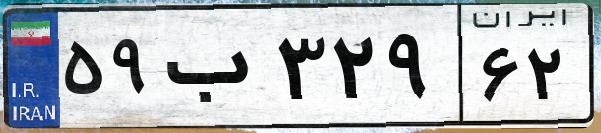2: (330, 28, 385, 110), (525, 38, 570, 115)
3: (270, 28, 330, 110)
5: (57, 26, 110, 100)
6: (475, 38, 525, 113)
9: (385, 28, 445, 110), (110, 28, 158, 98)
ب: (158, 20, 270, 120)
